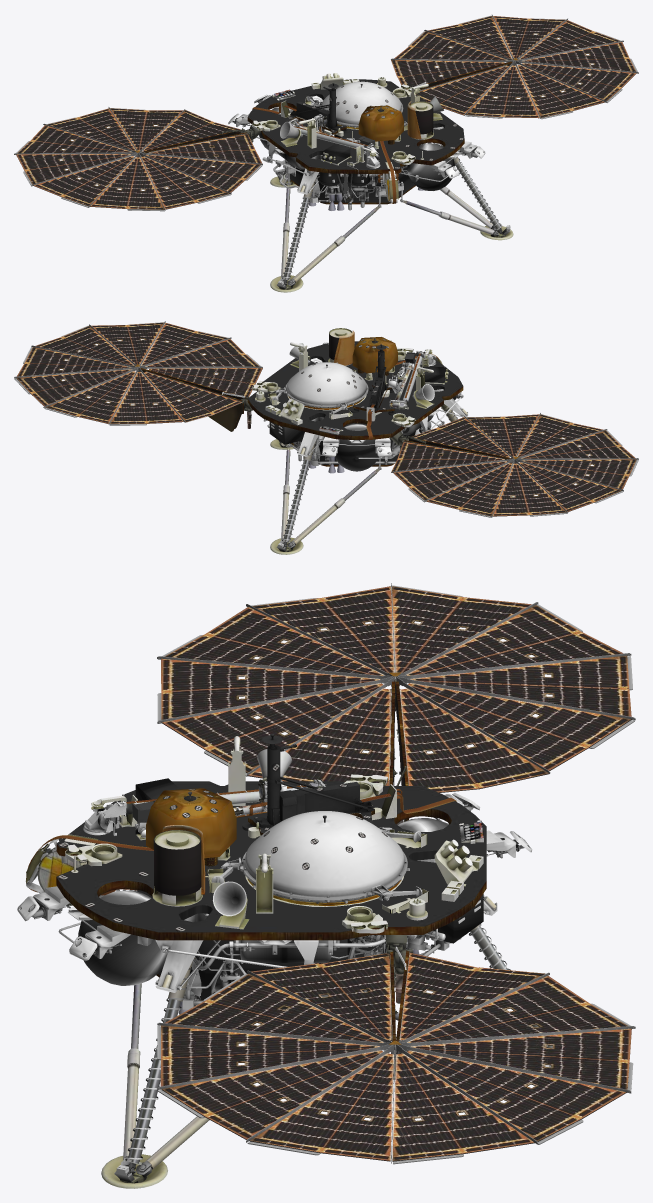
Rendered from insight.glb.
3 renders of one model, top to bottom at view 1: azimuth 30°, elevation 25°; view 2: azimuth 150°, elevation 25°; view 3: azimuth 270°, elevation 25°, orthographic. The views are drawn at different scales.
Visible parts, largest first — view 1: deck, SEIS, Cube.079, arm_01, cable_02; view 2: deck, SEIS, Cube.079, arm_01; view 3: deck, SEIS, Cube.079, arm_01, cable_02.
Boxes of the visible parts, x1,y1,x2,y2 form: deck: (14,14,638,292); SEIS: (290,81,407,202); Cube.079: (391,59,504,89); arm_01: (288,114,379,167); cable_02: (284,105,396,203); deck: (14,321,638,554); SEIS: (272,337,423,414); Cube.079: (144,372,241,422); arm_01: (388,349,435,407); deck: (17,583,635,1188); SEIS: (124,779,422,903); Cube.079: (399,952,545,1040); arm_01: (84,779,326,837); cable_02: (26,785,401,906).
Bounding box in the file's own units: 6.14 × 1.58 × 2.77.
Materials: 11 (11 with a texture image).
